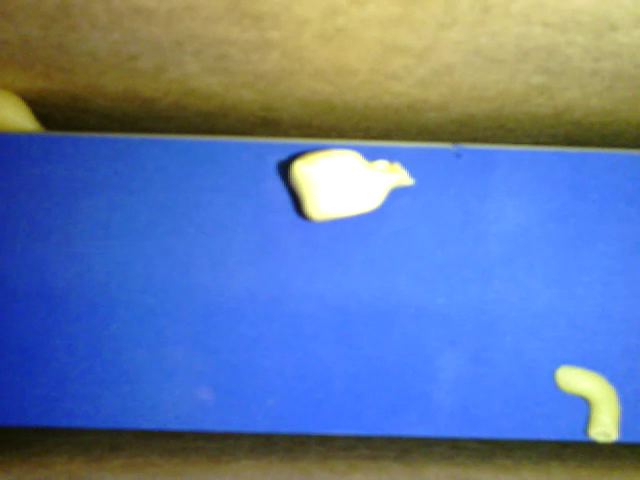elbow: (553, 365, 624, 442)
tortellini: (287, 149, 415, 223)
